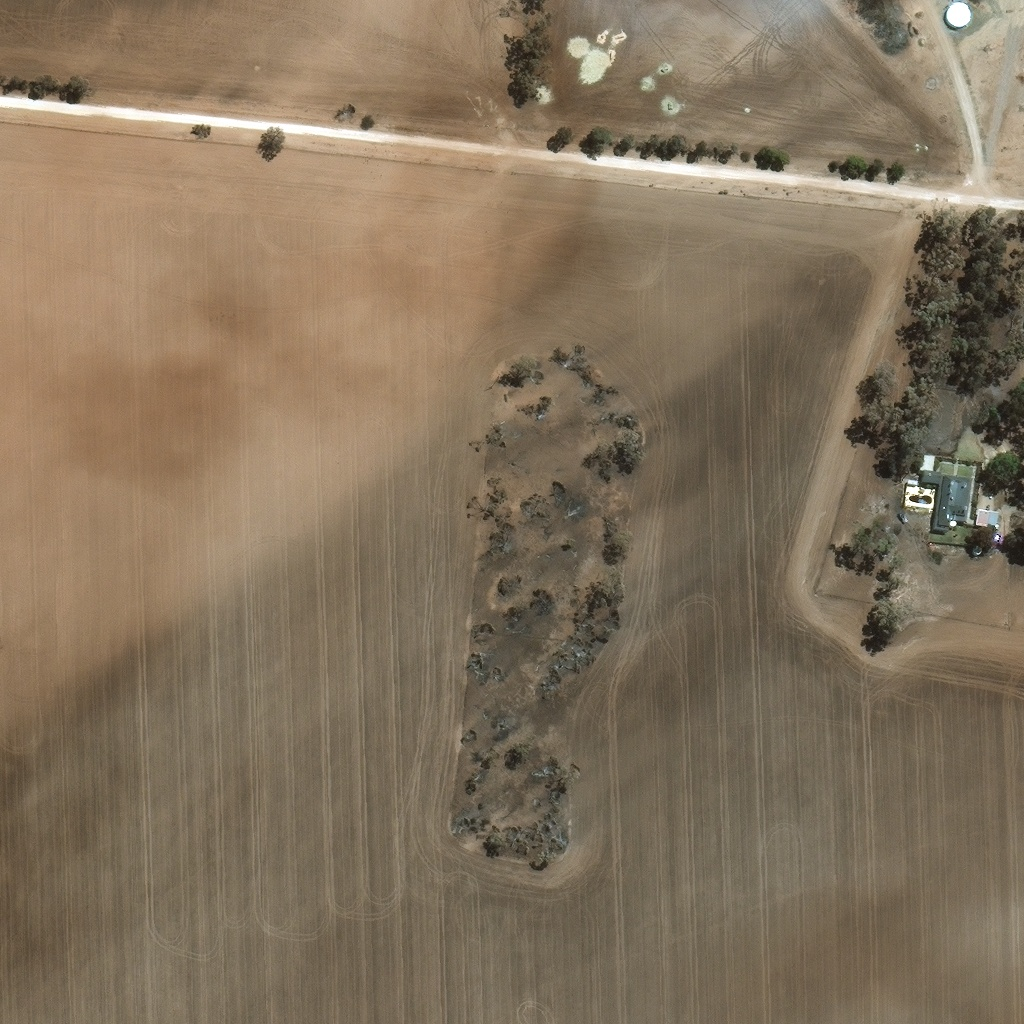0 no-damage: (920, 467, 973, 530), (974, 504, 1000, 526), (919, 449, 936, 467)
